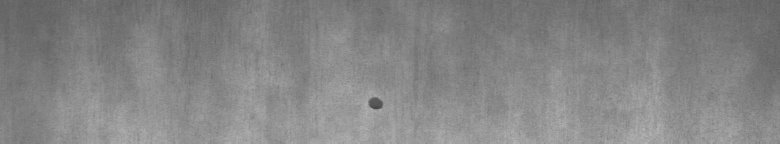fi: (363, 91, 388, 116)
